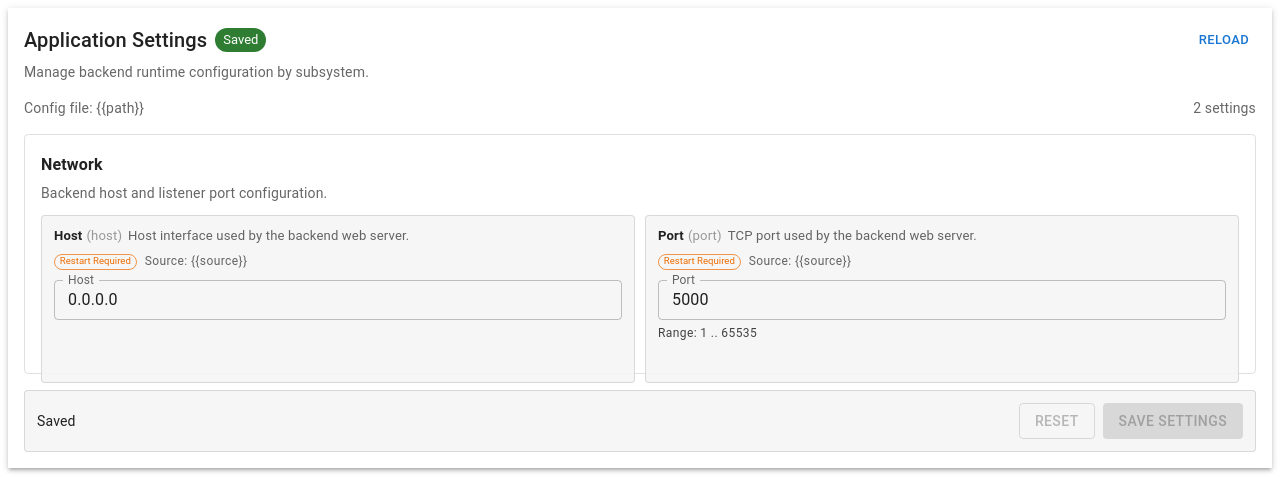
Scenario: app-settings-form › renders backend validation errors when save fails
Replace the text in the number field labelled "Port" with "99999" at (942, 300), box [658,280,1226,320]
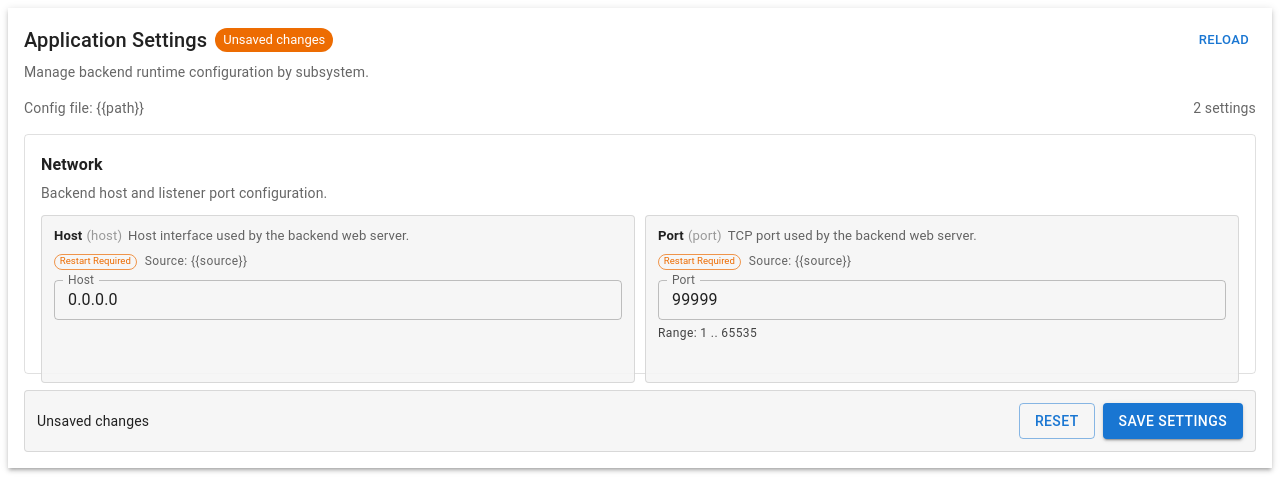
Click the button "Save Settings" at (1173, 421), box [1103,403,1243,439]
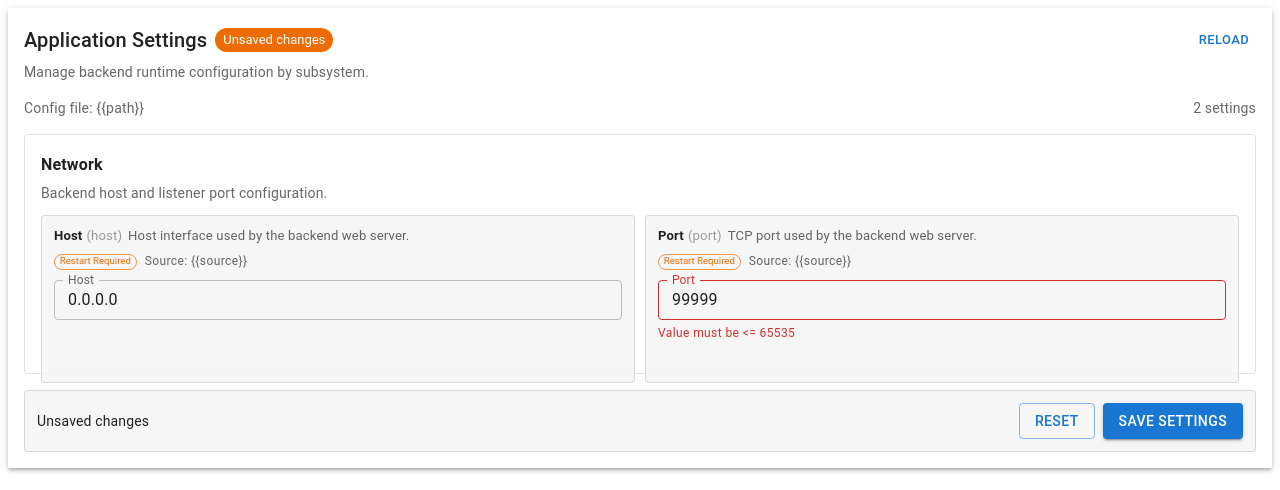
Expected: the text "Value must be <= 65535" is shown, [658,326,795,340]
